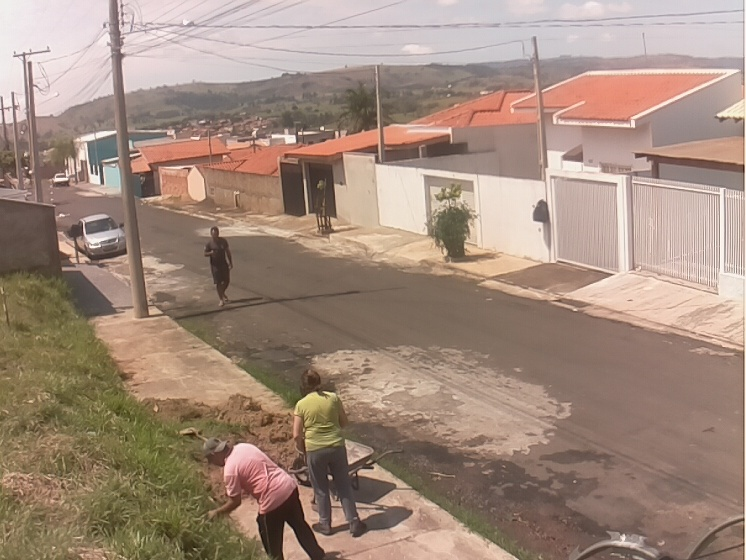person: (202, 436, 328, 560), (292, 369, 366, 537), (203, 225, 237, 310)
